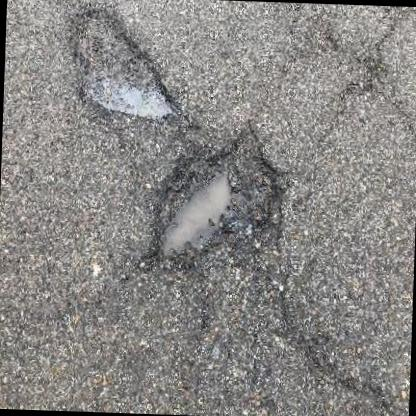pothole: (140, 114, 288, 278), (62, 2, 184, 124)
